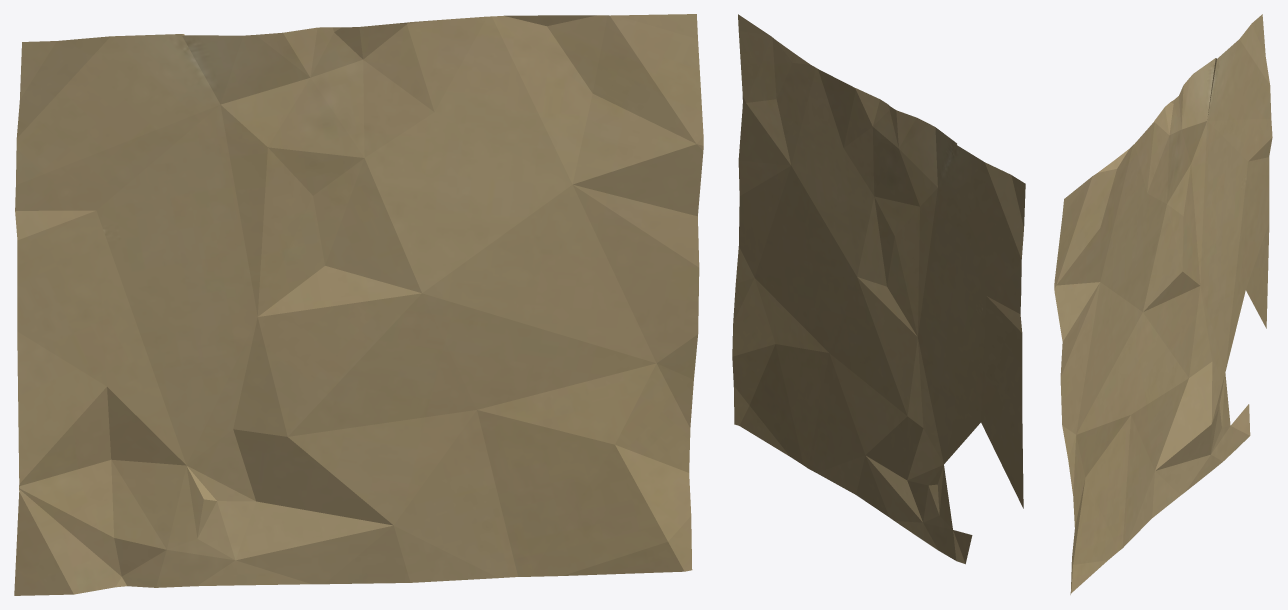
3 views of the same model, side by side, from view 1: azimuth 30°, elevation 25°; view 2: azimuth 150°, elevation 25°; view 3: azimuth 270°, elevation 25° (orthographic). The views are drawn at different scales.
Bounding box in the file's own units: 0.8374 × 0.8374 × 0.4194.
Materials: 3 (3 with a texture image).
